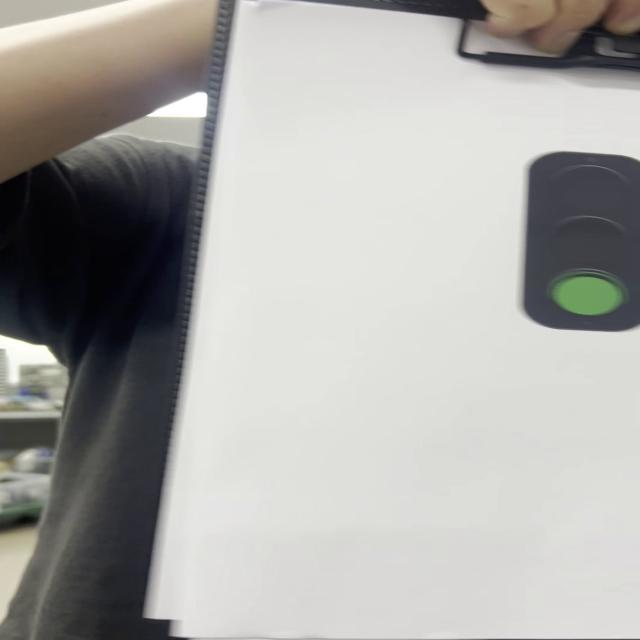green: (526, 151, 640, 332)
